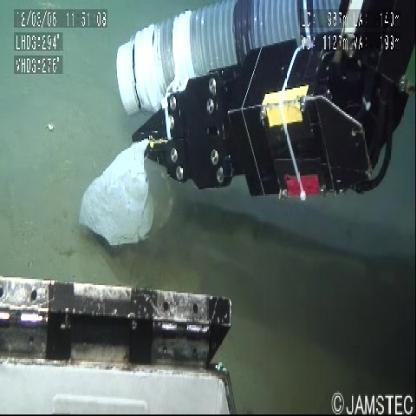Rov: (112, 6, 416, 219), (1, 269, 255, 416)
Rác: (73, 131, 169, 257)
